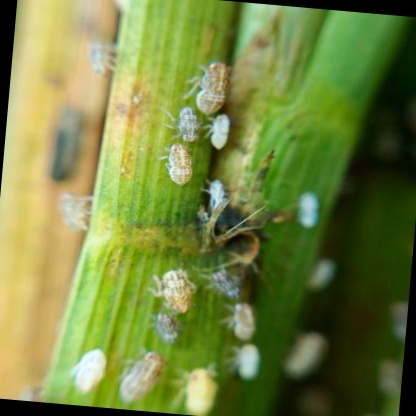Brown_hopper: (111, 340, 170, 410), (177, 52, 235, 117), (59, 340, 116, 398), (51, 177, 99, 241), (152, 262, 201, 317), (174, 365, 225, 416), (215, 296, 266, 345), (228, 337, 271, 392), (78, 34, 118, 88), (205, 261, 253, 302), (147, 304, 183, 352), (159, 141, 192, 192), (199, 111, 232, 154), (171, 106, 202, 145)
